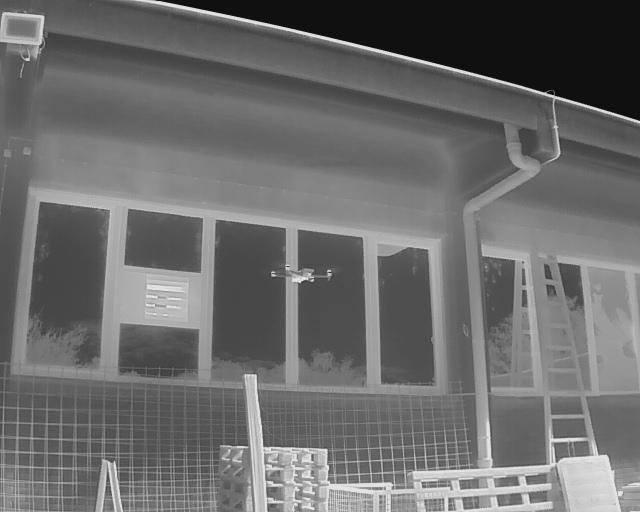drone: (264, 256, 339, 294)
